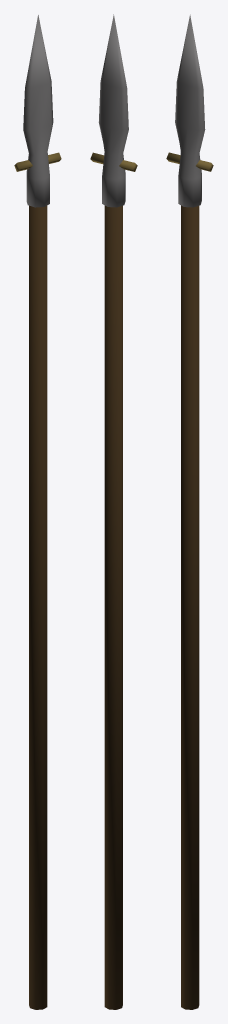
File: spear.glb
3 renders of one model, left to right at view 1: azimuth 30°, elevation 25°; view 2: azimuth 150°, elevation 25°; view 3: azimuth 330°, elevation 25°, orthographic.
Visible parts, largest first — view 1: Spear; view 2: Spear; view 3: Spear.
Boxes of the visible parts, left/top/right/bottom form: Spear: left=14, top=15, right=61, bottom=1009; Spear: left=90, top=14, right=137, bottom=1009; Spear: left=166, top=14, right=213, bottom=1009.
Bounding box in the file's own units: 0.1041 × 2.34 × 0.0519.
